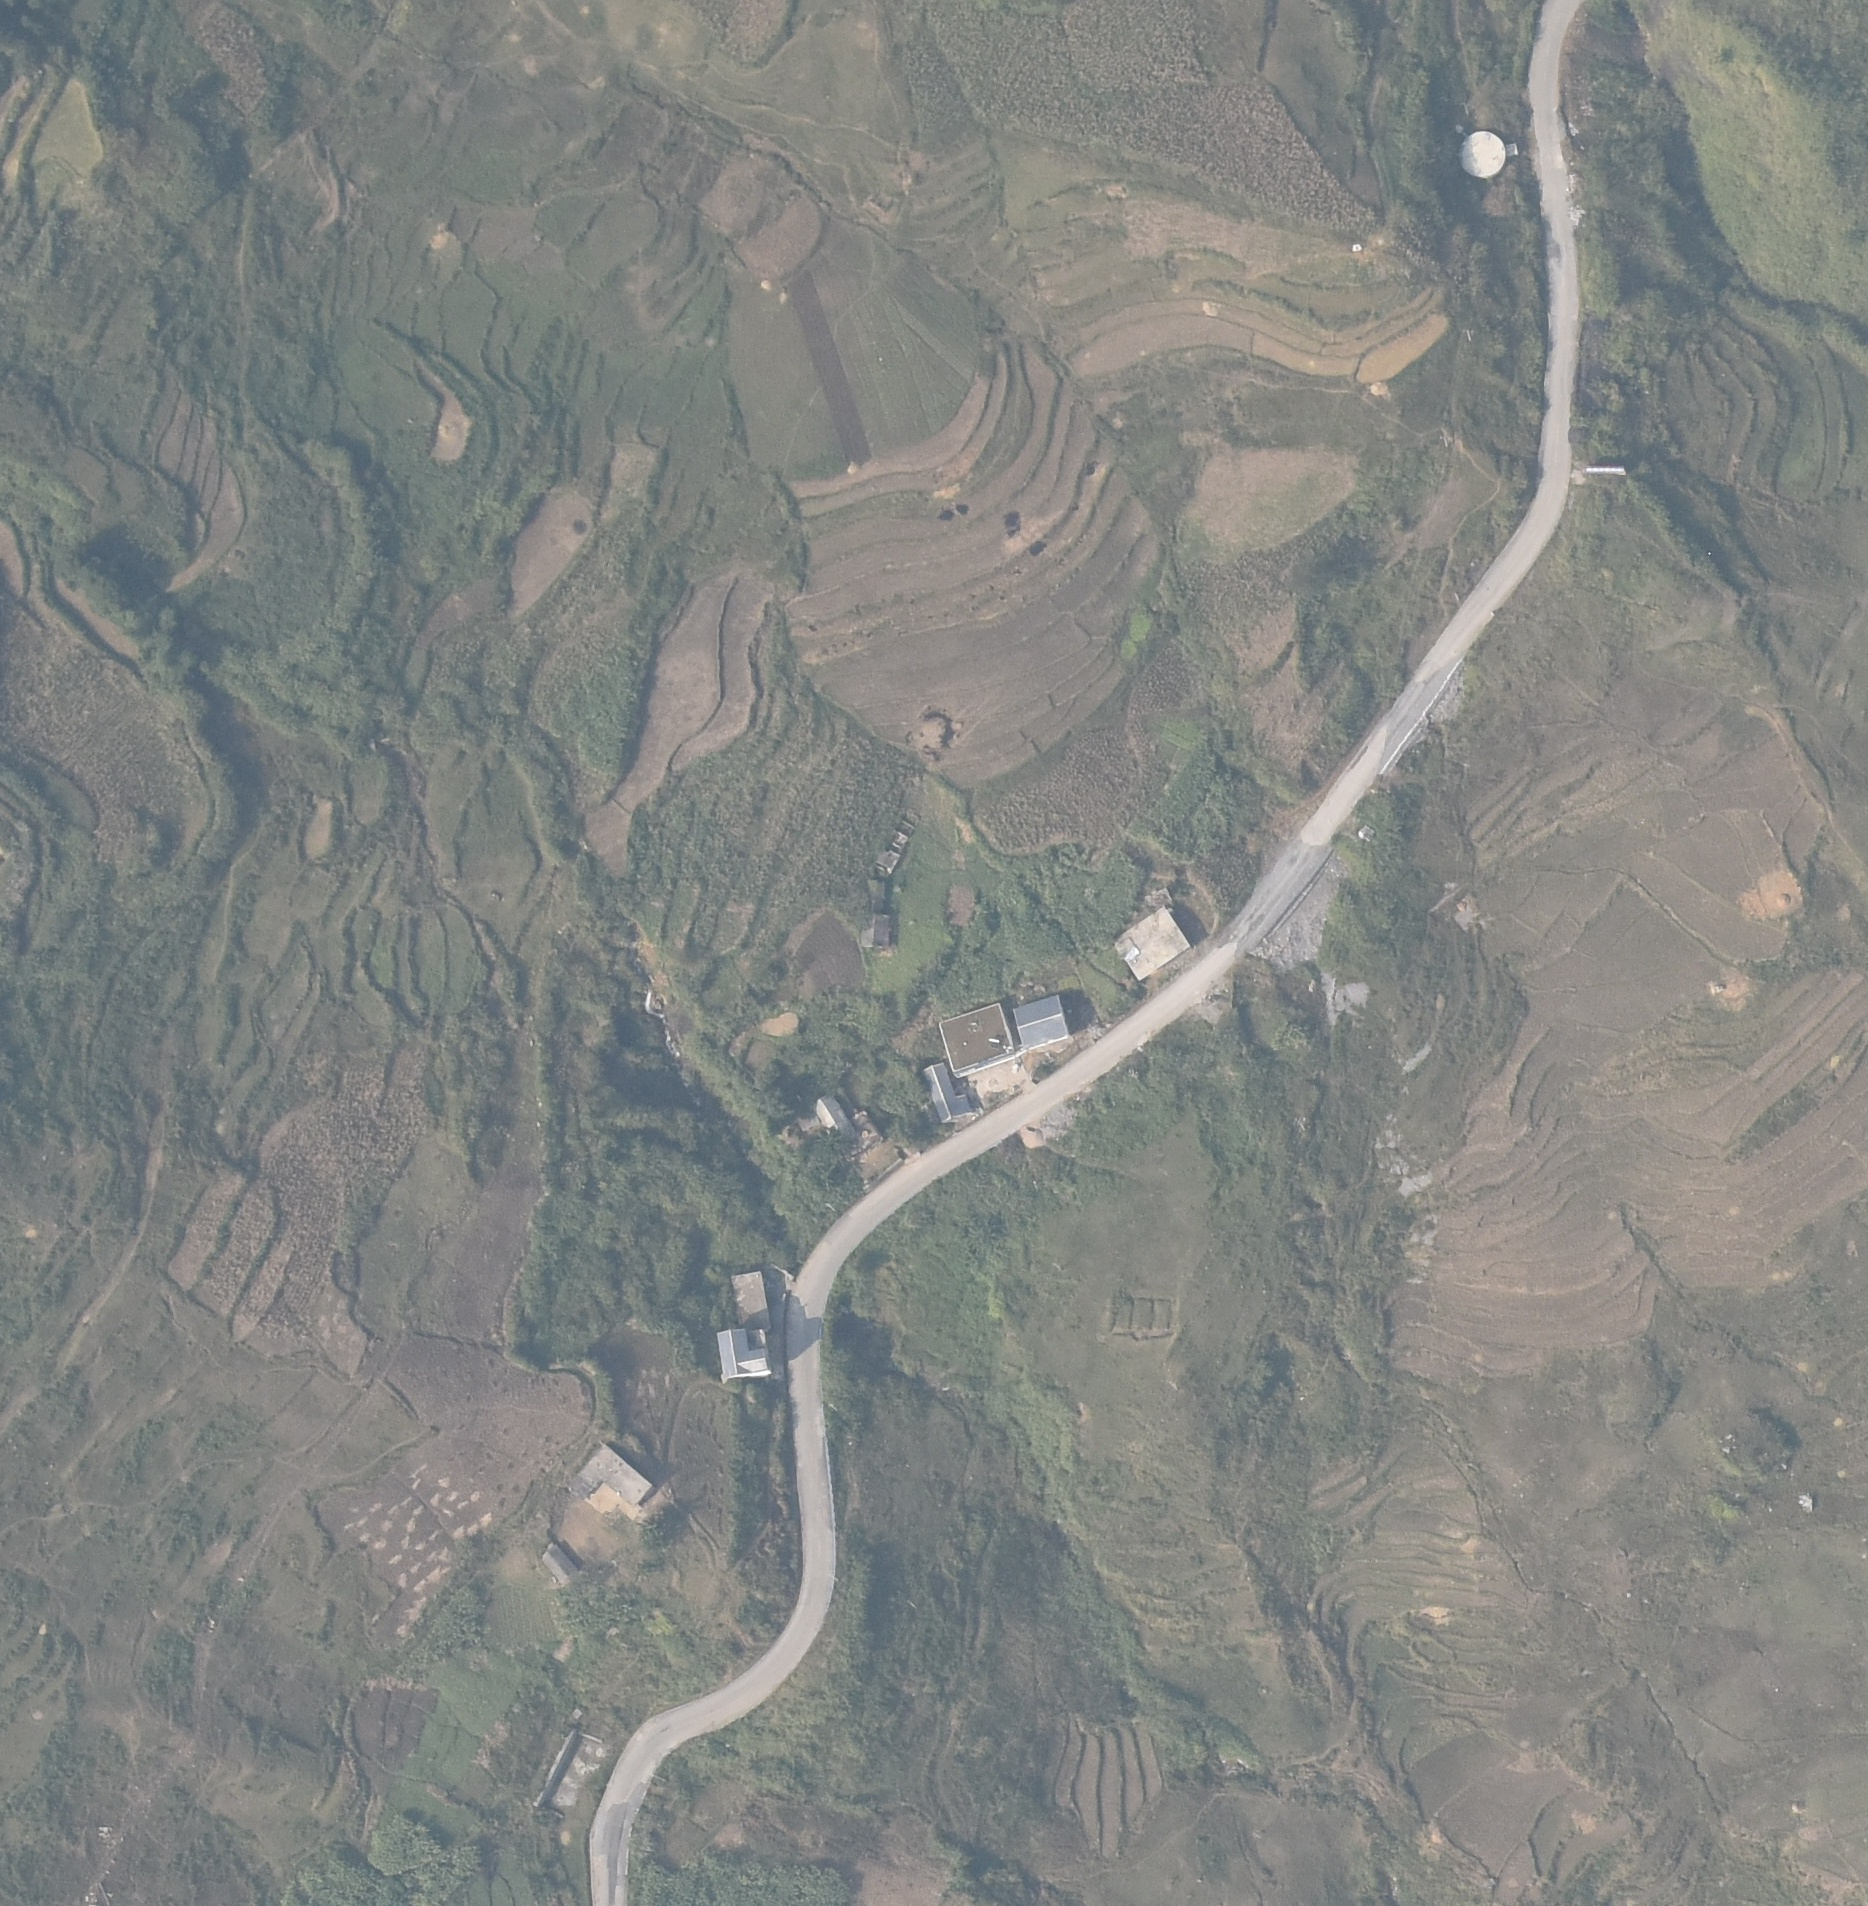building: (1113, 904, 1196, 983), (939, 992, 1013, 1074), (568, 1448, 657, 1510), (1005, 991, 1073, 1050), (917, 1063, 977, 1127), (715, 1329, 775, 1383), (809, 1092, 866, 1144), (729, 1271, 775, 1331), (533, 1541, 584, 1585), (859, 909, 895, 951)
well: (1447, 114, 1523, 193)
